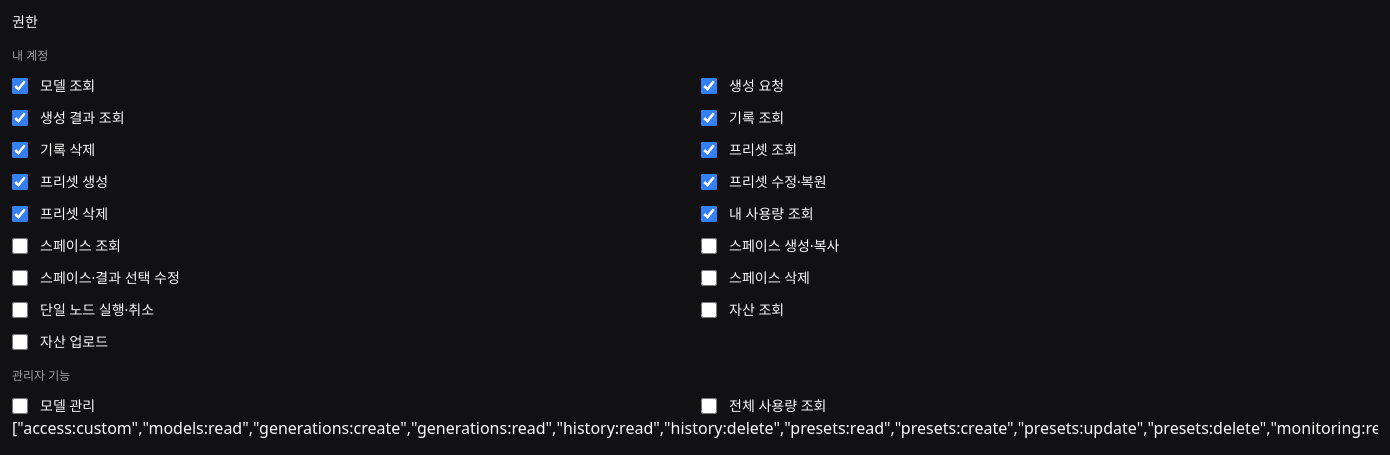
Test case: edits individual account permissions and explicitly enables administrative access
The width and height of the screenshot is (1390, 455).
Check: the checkbox labelled "스페이스 조회" is not checked, box [12,238,28,254]
Check: the checkbox labelled "자산 업로드" is not checked, box [12,334,28,350]
Click the checkbox labelled "생성 요청" at (709, 86), box [701,78,717,94]
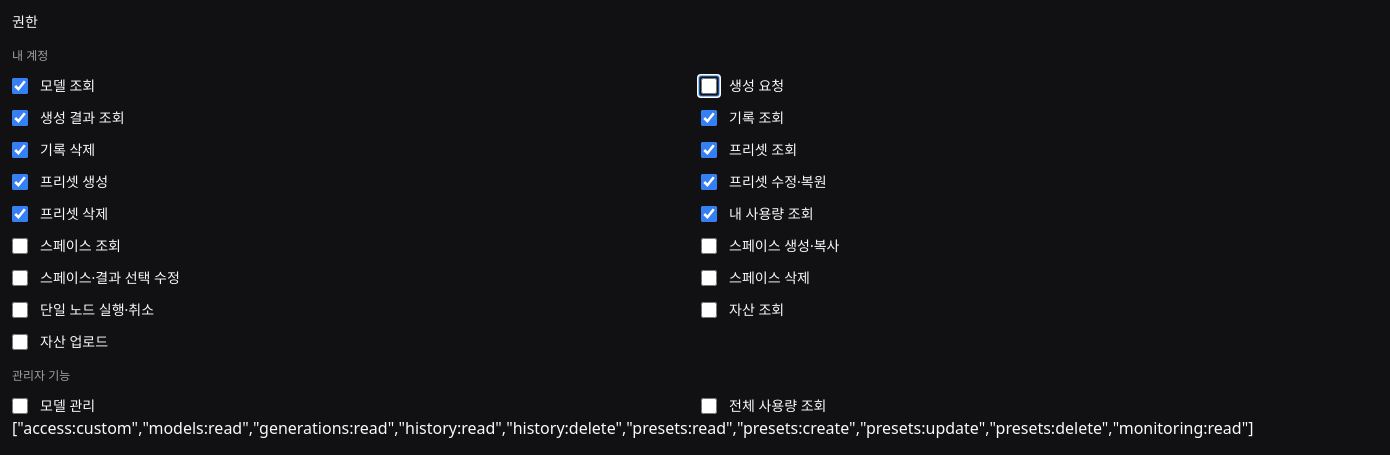
Check: the text "generations:create" is gone
Click the checkbox labelled "모델 관리" at (20, 406), box [12,398,28,414]
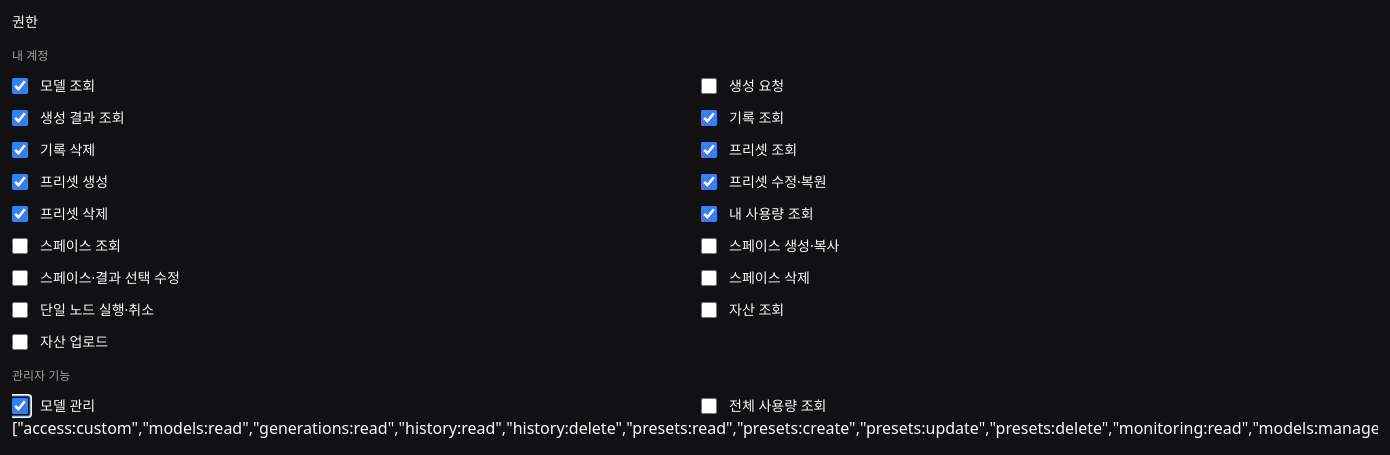
Click the checkbox labelled "생성 요청" at (709, 86), box [701,78,717,94]
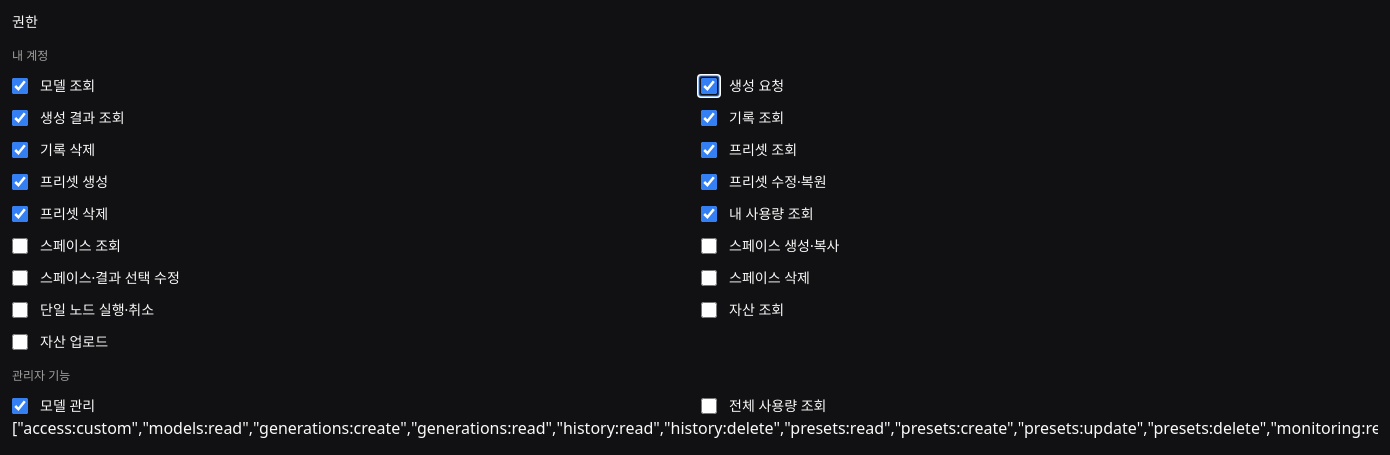
Click the checkbox labelled "모델 관리" at (20, 406), box [12,398,28,414]
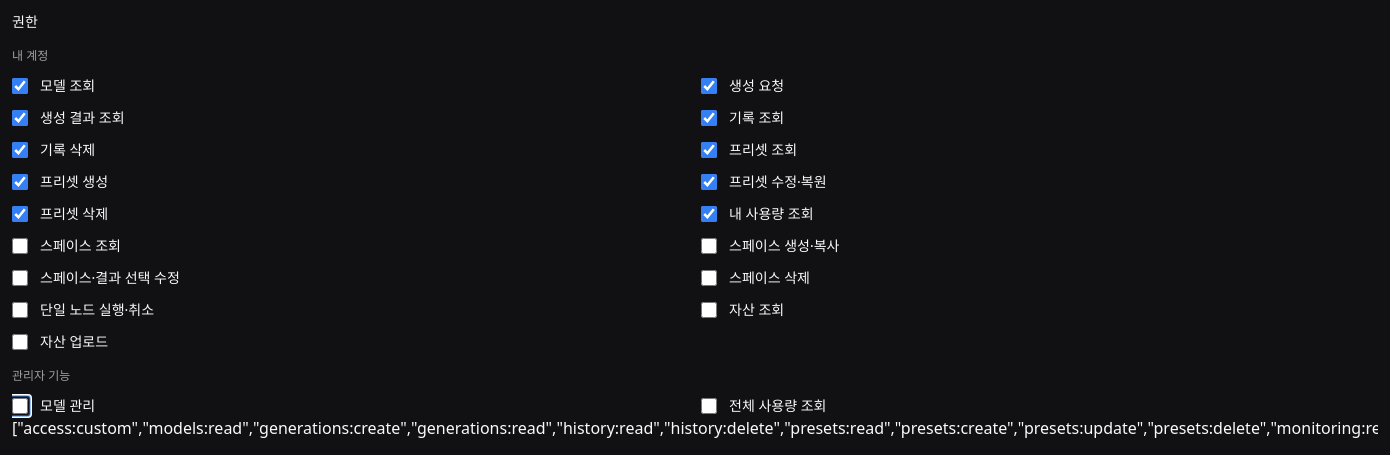
Check: the text "models:manage" is gone
